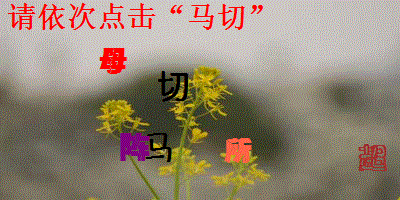text: (158, 69, 190, 102), (118, 131, 151, 162), (144, 132, 174, 164), (357, 144, 389, 174), (98, 46, 128, 75), (224, 137, 254, 164)
